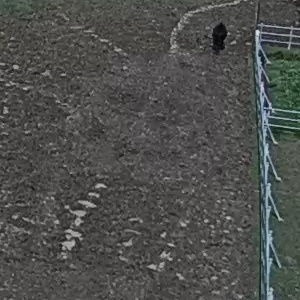cow: (204, 20, 232, 60)
